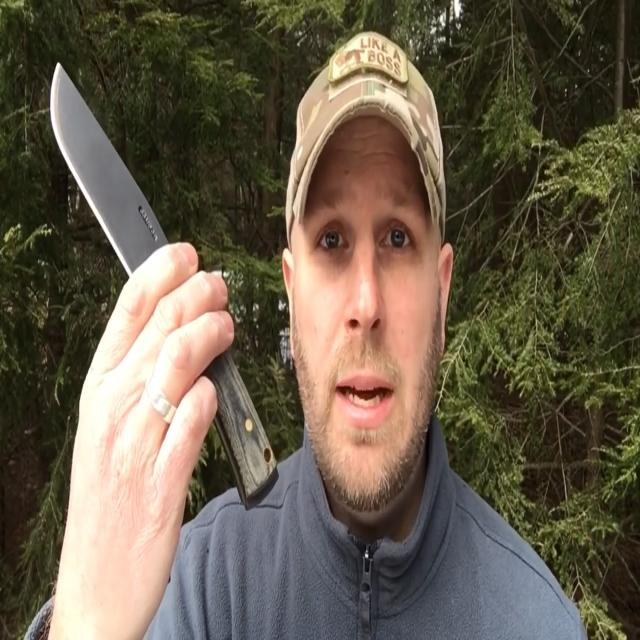knife: (51, 58, 277, 508)
